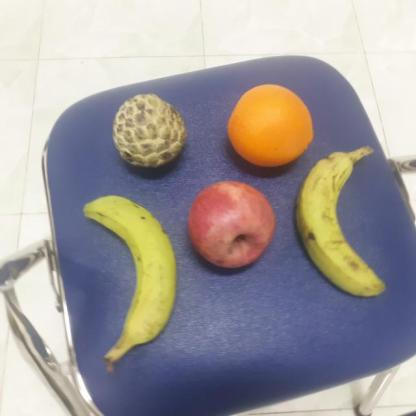annona: (112, 91, 188, 168)
apple: (184, 180, 278, 273)
banana: (79, 190, 180, 346), (292, 149, 388, 300)
orange: (223, 82, 315, 168)
